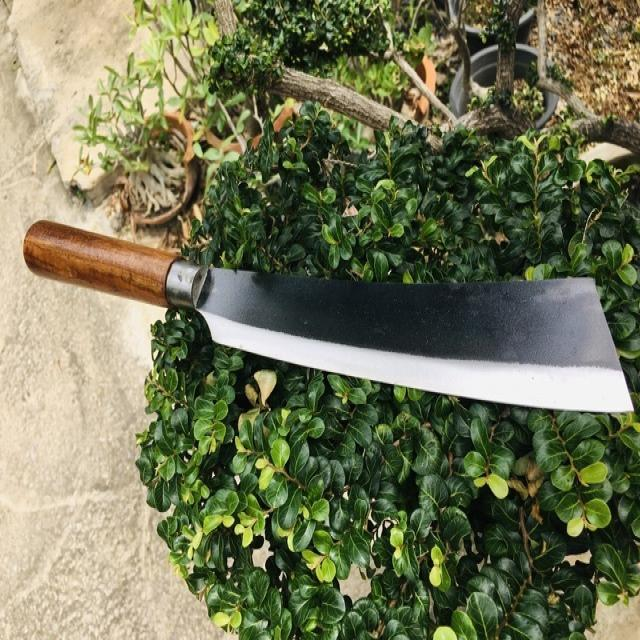eto: (14, 212, 640, 420)
